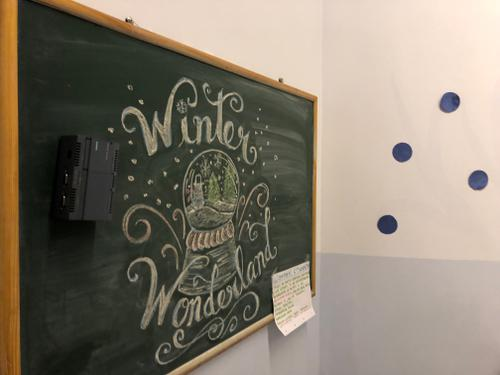device: (55, 135, 120, 221)
